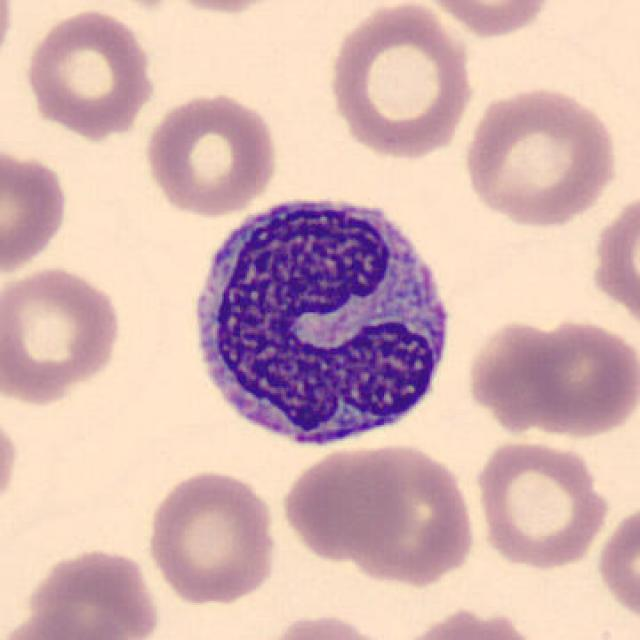Monocyte: (178, 182, 462, 466)
RBC: (323, 0, 478, 160), (459, 81, 622, 231), (343, 441, 480, 587), (142, 466, 281, 608), (471, 437, 612, 571), (20, 5, 158, 140), (140, 88, 281, 219), (0, 263, 126, 407), (508, 314, 636, 441), (277, 442, 411, 562), (20, 545, 164, 640), (462, 316, 576, 430), (0, 144, 71, 278), (588, 183, 638, 342), (416, 0, 560, 41), (594, 498, 638, 630), (389, 604, 545, 640), (0, 604, 133, 640), (254, 610, 395, 640), (0, 404, 21, 522), (155, 0, 297, 16), (0, 0, 18, 79)
